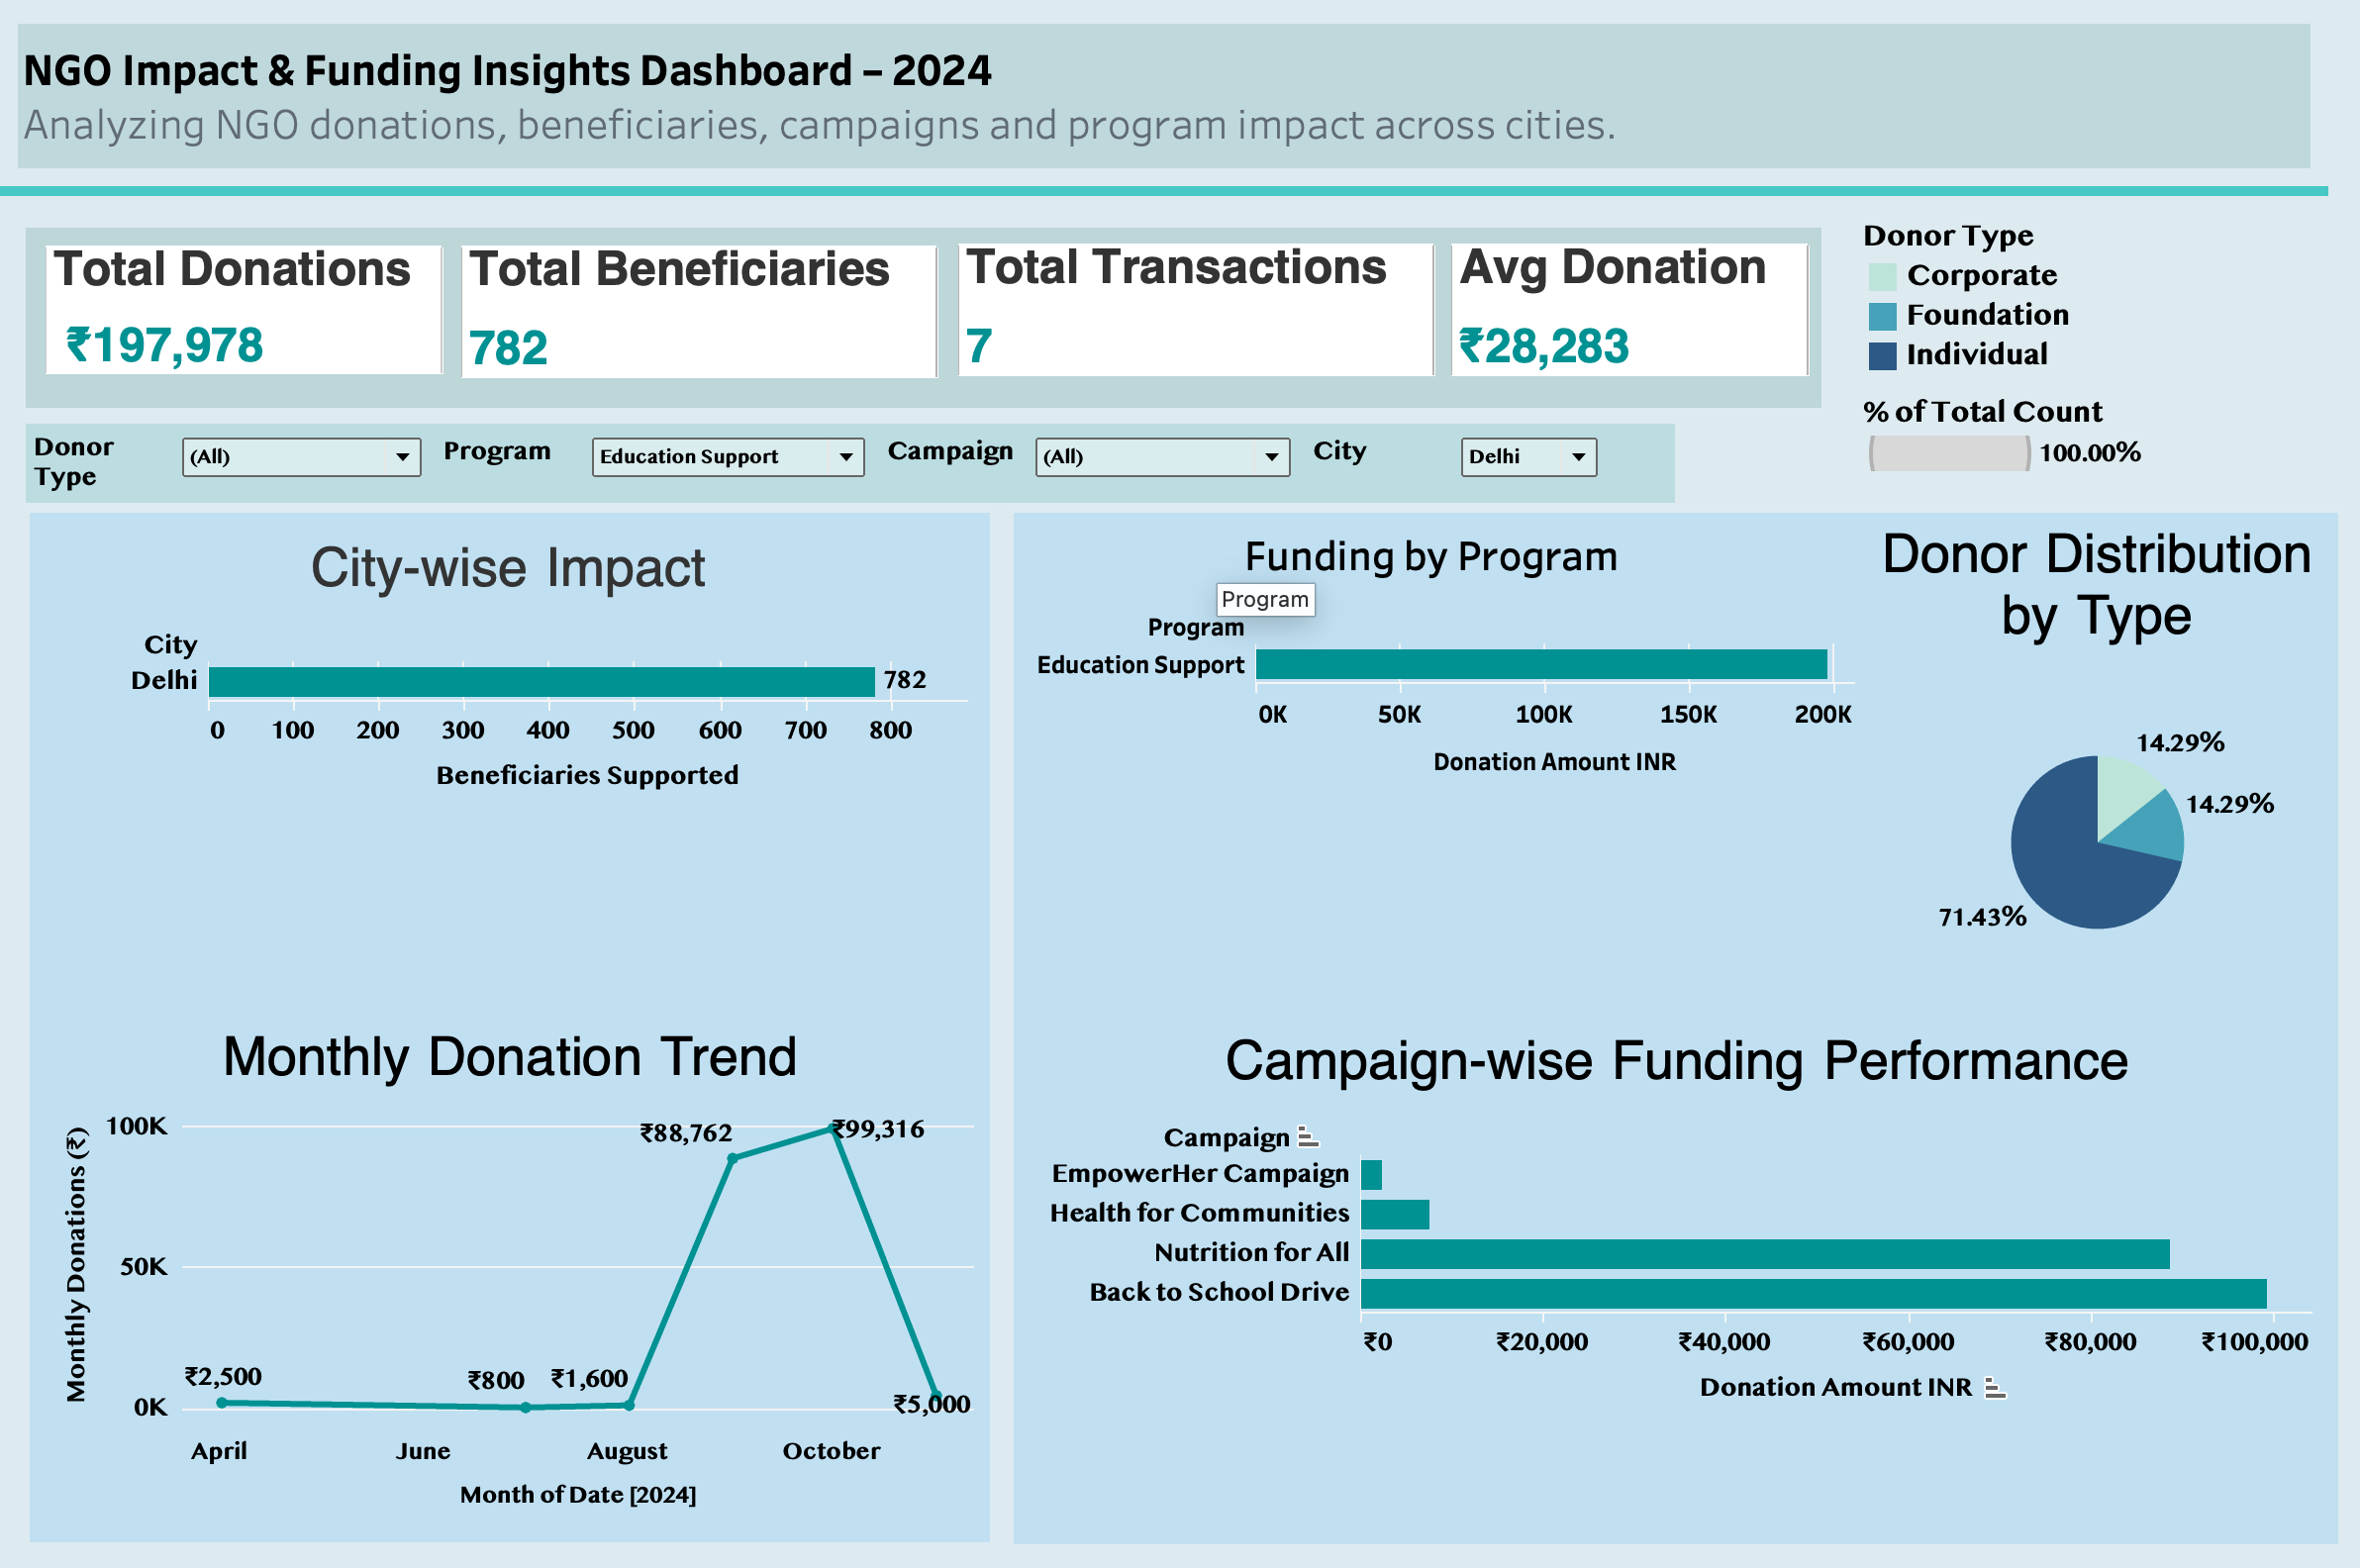

The dashboard page shown, as its layout file describes it:
{"tool":"tableau","page":{"name":"NGO New","canvas":[1200,800],"ordinal":1},"visuals":[{"type":"title","box":[12,12,1176,91]},{"type":"blank","box":[5,104,947,131]},{"type":"blank","box":[937,114,249,149]},{"type":"worksheet","title":"KPI 3 — Total Transactions","mark":"Automatic","box":[496,118,248,93]},{"type":"worksheet","title":"KPI - Avg Donation","mark":"Automatic","box":[745,118,193,100]},{"type":"worksheet","title":"KPI – Total Donations","mark":"Text","box":[35,119,209,88]},{"type":"worksheet","title":"KPI – Total Beneficiaries","mark":"Automatic","box":[245,119,244,108]},{"type":"legend","title":"Donor Type Distribution","param":"[federated.04s6wz103esujl121h8pq0vcro97].[none:Donor_Type:nk]","box":[953,120,146,85]},{"type":"legend","title":"Donor Type Distribution","param":"[federated.04s6wz103esujl121h8pq0vcro97].[pcto:cnt:Sheet1_51F91A157DE24FBA84DC4F","box":[953,209,154,46]},{"type":"filter","title":"City-wise Impact","param":"[federated.04s6wz103esujl121h8pq0vcro97].[none:Donor_Type:nk]","box":[25,223,207,40]},{"type":"filter","title":"City-wise Impact","param":"[federated.04s6wz103esujl121h8pq0vcro97].[none:Program:nk]","box":[232,223,224,40]},{"type":"filter","title":"City-wise Impact","param":"[federated.04s6wz103esujl121h8pq0vcro97].[none:Campaign:nk]","box":[456,223,215,40]},{"type":"filter","title":"City-wise Impact","param":"[federated.04s6wz103esujl121h8pq0vcro97].[none:City:nk]","box":[671,223,155,40]},{"type":"blank","box":[27,268,485,520]},{"type":"blank","box":[524,268,669,521]},{"type":"worksheet","title":"Sheet 11","mark":"Automatic","rows":["Program"],"cols":["Donation_Amount_INR"],"box":[526,271,423,264]},{"type":"worksheet","title":"Donor Type Distribution","mark":"Pie","box":[951,273,241,249]},{"type":"worksheet","title":"City-wise Impact","mark":"Bar","rows":["City"],"cols":["Beneficiaries_Supported"],"box":[37,280,464,242]},{"type":"blank","box":[866,295,325,152]},{"type":"worksheet","title":"Monthly Donation Trend","mark":"Line","rows":["Donation_Amount_INR"],"cols":["Date"],"box":[36,527,468,252]},{"type":"worksheet","title":"Campaign Performance","mark":"Bar","rows":["Campaign"],"cols":["Donation_Amount_INR"],"box":[539,529,641,253]}]}

Visuals, with their boxes in screenshot pixels (x1, y1, x2, y2), scaled from the page's 1200x800 canvas onto the 2360x1568 screenshot:
title: bbox=(24, 24, 2336, 202)
blank: bbox=(10, 204, 1872, 460)
blank: bbox=(1843, 224, 2332, 516)
"KPI 3 — Total Transactions" worksheet: bbox=(975, 232, 1463, 414)
"KPI - Avg Donation" worksheet: bbox=(1465, 232, 1844, 428)
"KPI – Total Donations" worksheet (Text marks): bbox=(69, 234, 480, 406)
"KPI – Total Beneficiaries" worksheet: bbox=(482, 234, 961, 444)
"Donor Type Distribution" legend: bbox=(1874, 236, 2161, 402)
"Donor Type Distribution" legend: bbox=(1874, 410, 2177, 500)
"City-wise Impact" filter: bbox=(49, 438, 456, 516)
"City-wise Impact" filter: bbox=(456, 438, 897, 516)
"City-wise Impact" filter: bbox=(897, 438, 1320, 516)
"City-wise Impact" filter: bbox=(1320, 438, 1624, 516)
blank: bbox=(53, 526, 1007, 1544)
blank: bbox=(1031, 526, 2346, 1546)
"Sheet 11" worksheet: bbox=(1034, 532, 1866, 1048)
"Donor Type Distribution" worksheet (Pie marks): bbox=(1870, 536, 2344, 1024)
"City-wise Impact" worksheet (Bar marks): bbox=(73, 548, 985, 1024)
blank: bbox=(1703, 578, 2342, 876)
"Monthly Donation Trend" worksheet (Line marks): bbox=(71, 1032, 991, 1526)
"Campaign Performance" worksheet (Bar marks): bbox=(1060, 1036, 2320, 1532)
